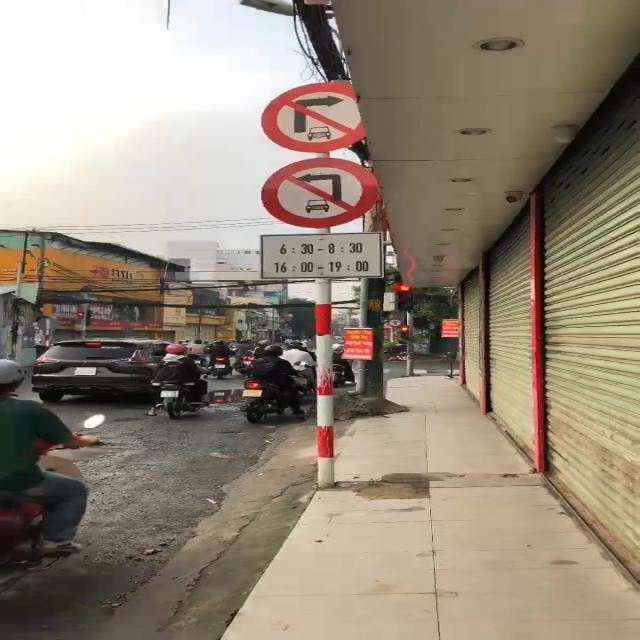Bien bao cam xe o to re phai: (257, 74, 385, 152)
Bien bao cam xe o to re trai: (258, 156, 393, 230)
